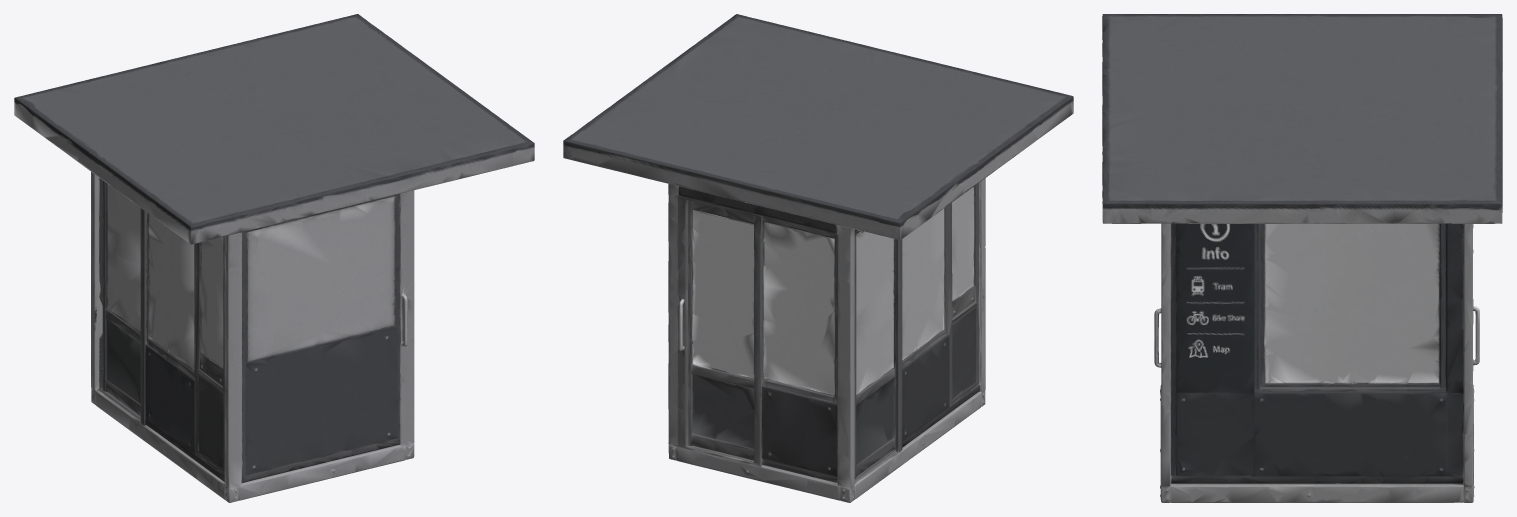
The model's file is kiosk.glb.
The picture shows the model from 3 angles, left to right: view 1: azimuth 30°, elevation 25°; view 2: azimuth 150°, elevation 25°; view 3: azimuth 270°, elevation 25°; orthographic projection. The views are drawn at different scales.
Visible parts, largest first — view 1: mesh_node; view 2: mesh_node; view 3: mesh_node.
Part boxes in pixels (<box>): mesh_node: <box>14,14,534,502</box>; mesh_node: <box>563,14,1073,502</box>; mesh_node: <box>1102,14,1502,502</box>.
Bounding box in the file's own units: 1.9 × 1.65 × 1.69.
Materials: 1 (1 with a texture image).
